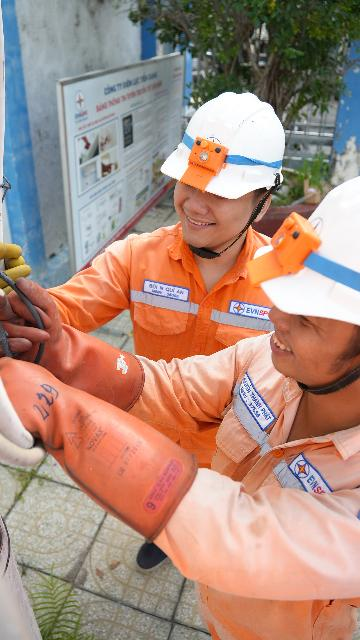gloves: (0, 349, 203, 556), (2, 278, 174, 410), (0, 224, 36, 285)
helmet: (246, 167, 360, 340), (158, 84, 291, 206)
